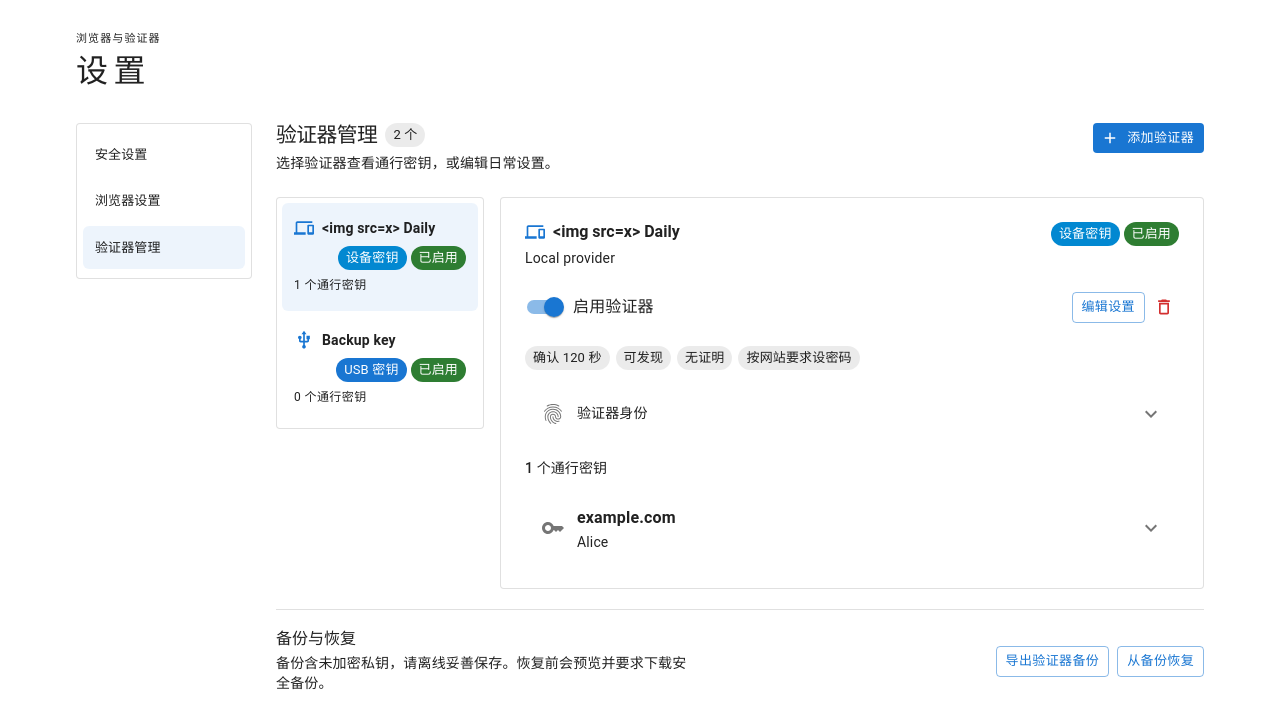
Scenario: Material UI settings integration › uses bold keys and regular values in identity, edit identity and passkey details
Click the button "验证器身份".
click(612, 413)  # box 525,390 -> 1179,438
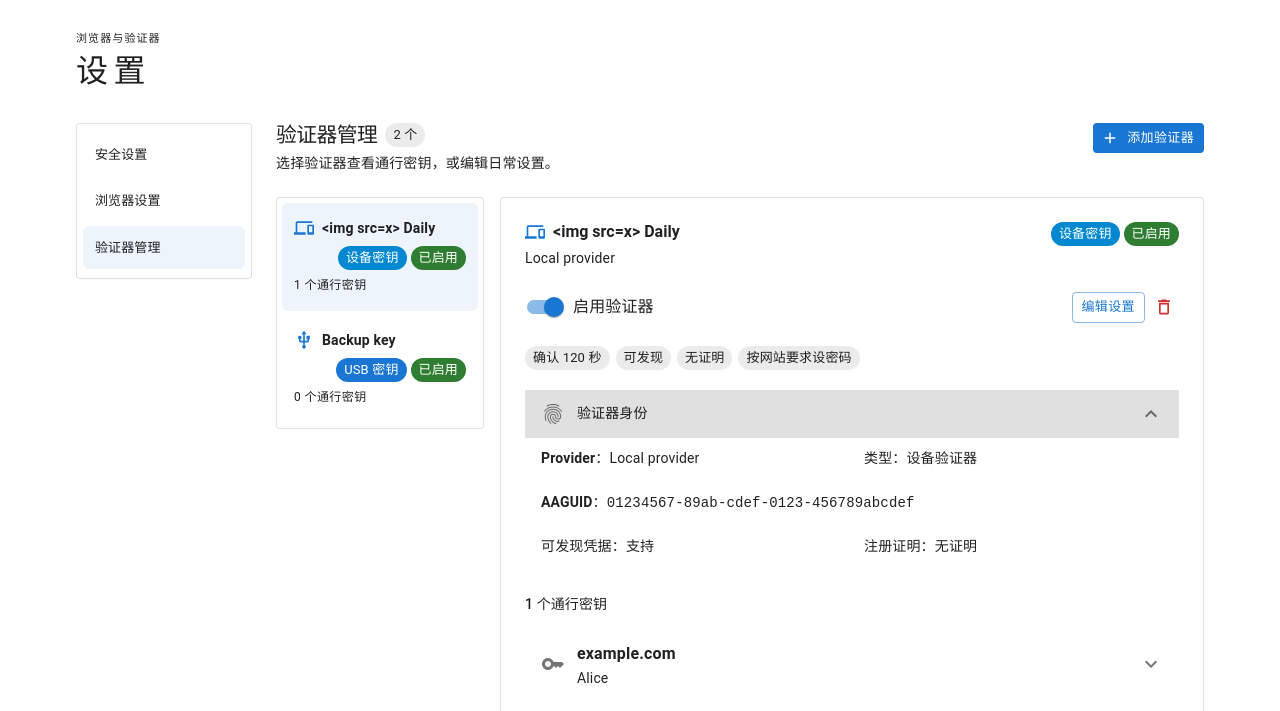
Click the button with aria-label "RP ID：example.com，用户名：Alice".
click(626, 654)  # box 525,628 -> 1179,700
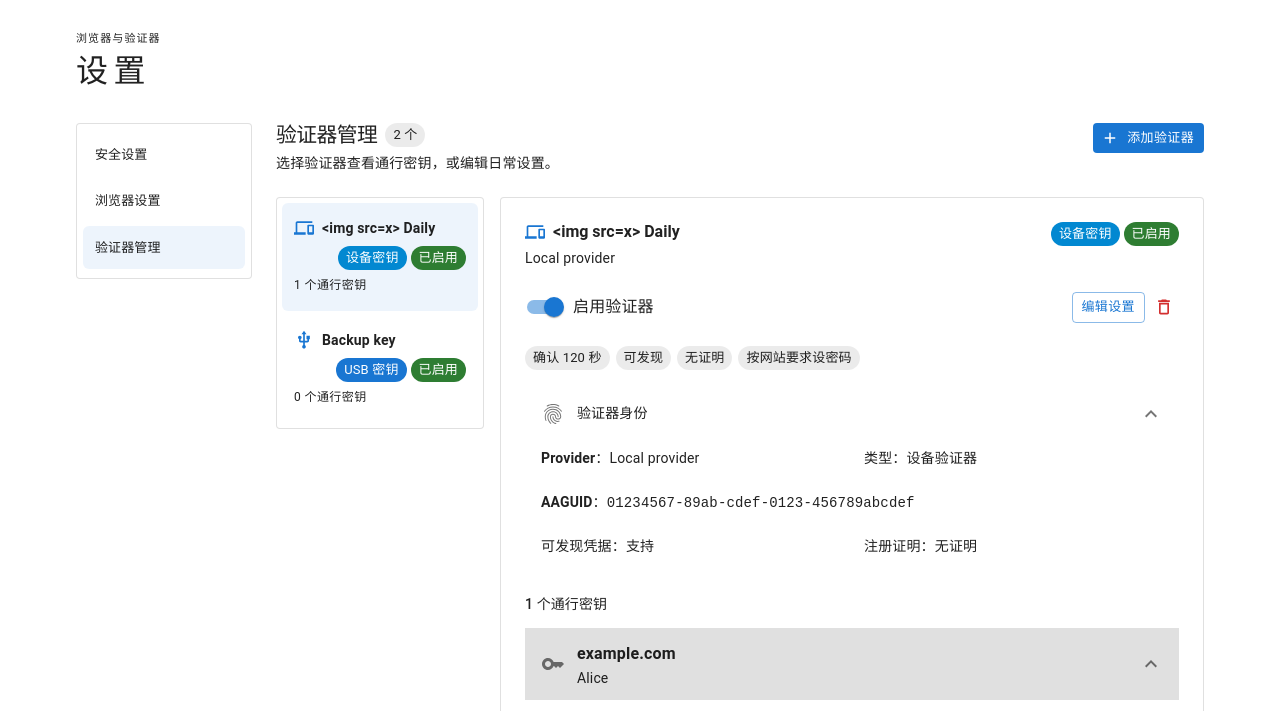
Check: the text "Provider：" is shown, box 541,450 -> 610,466
Check: the text "类型：" is shown, box 864,450 -> 906,466
Check: the text "AAGUID：" is shown, box 541,494 -> 607,510
Click the button "编辑设置".
click(1108, 307)  # box 1072,292 -> 1145,323
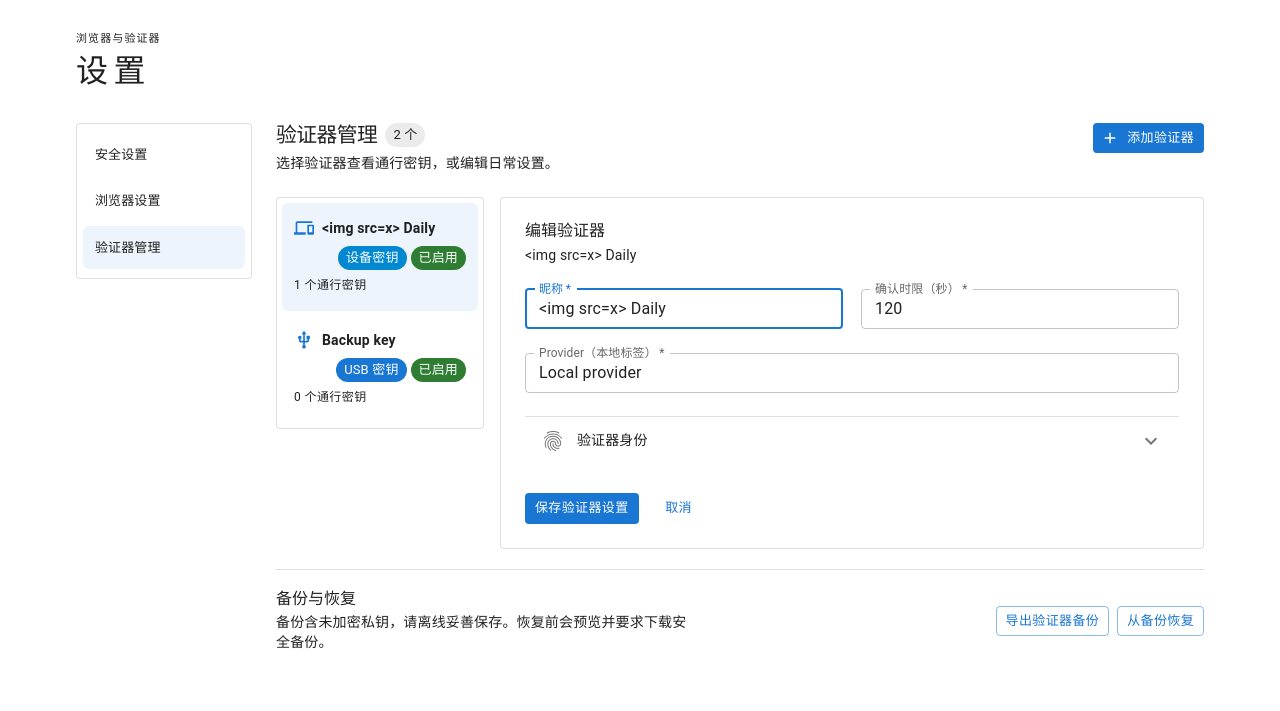
Click the button "验证器身份".
click(612, 440)  # box 525,417 -> 1179,465
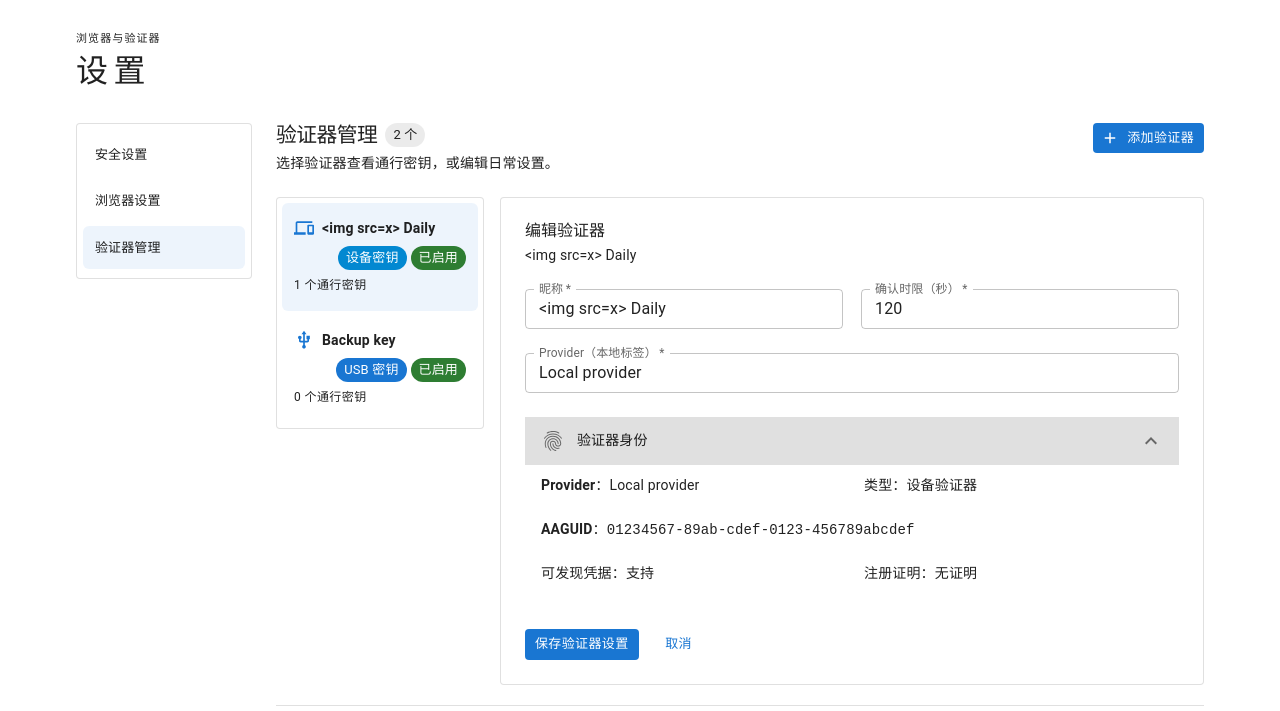
Check: the text "Provider：" is shown, box 541,477 -> 610,493
Check: the text "类型：" is shown, box 864,477 -> 906,493
Check: the text "AAGUID：" is shown, box 541,521 -> 607,537
